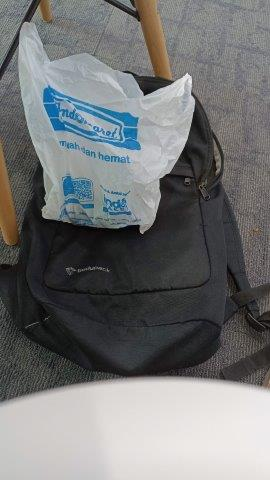plastik: (17, 22, 195, 233)
